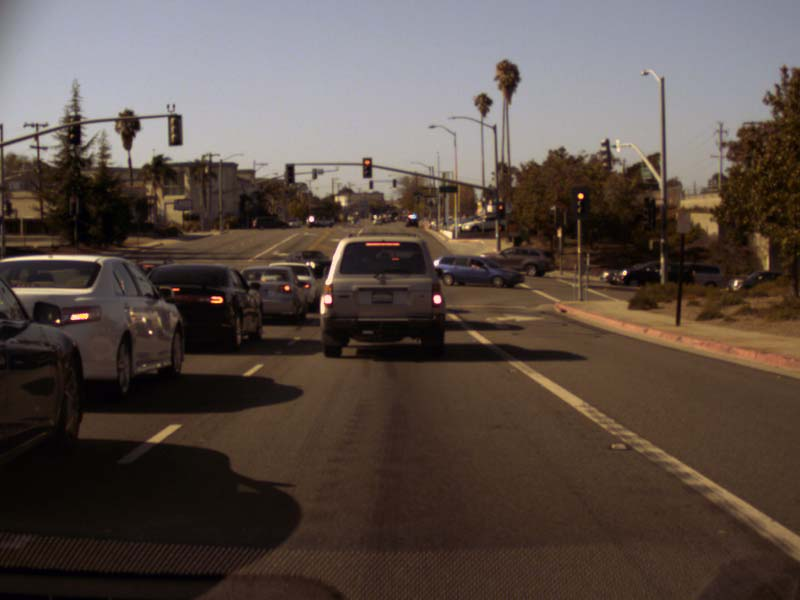Red: (571, 186, 588, 220), (362, 157, 372, 178), (285, 163, 294, 183), (496, 202, 505, 219), (69, 196, 77, 215)
